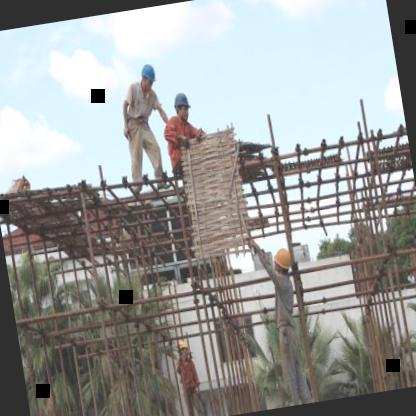helmet: (266, 243, 294, 278), (168, 87, 193, 126), (134, 60, 160, 95), (174, 339, 192, 364)
